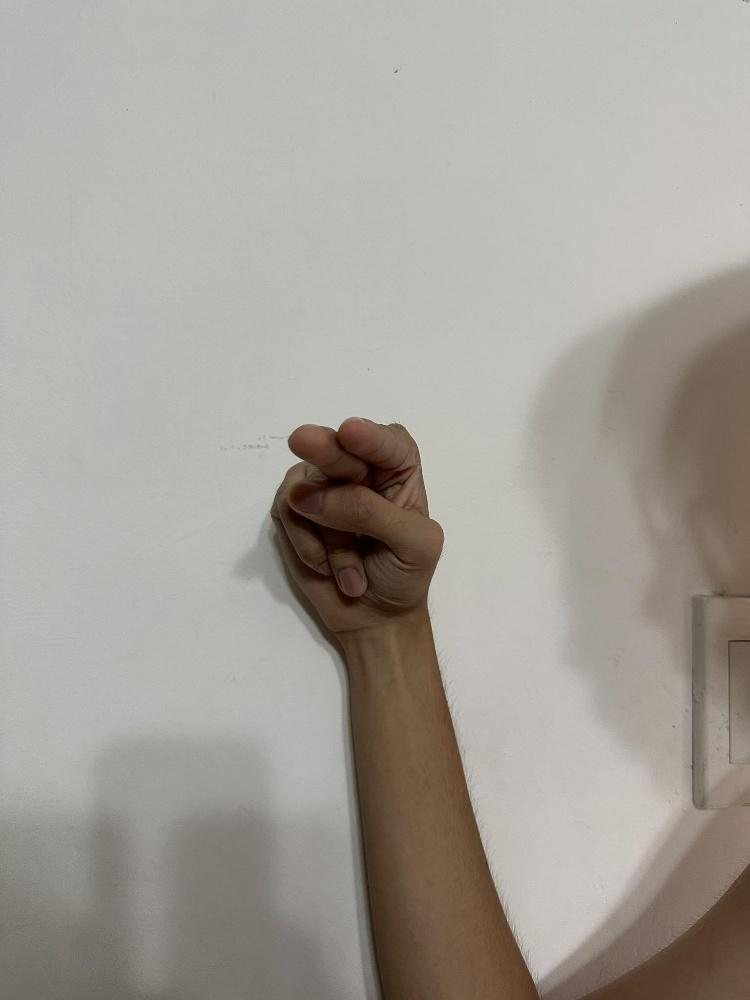n: (266, 413, 445, 625)
